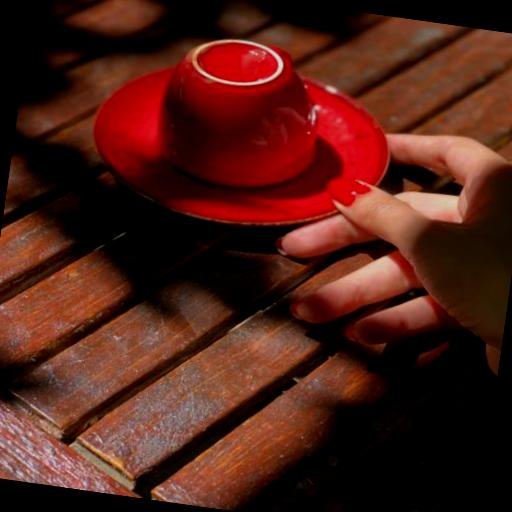cup: (150, 30, 328, 200)
